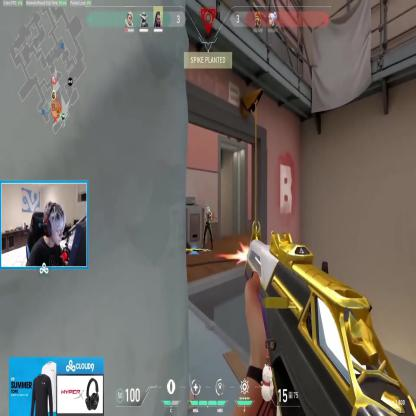enemy: (203, 204, 213, 249)
enemy_head: (206, 204, 209, 215)
